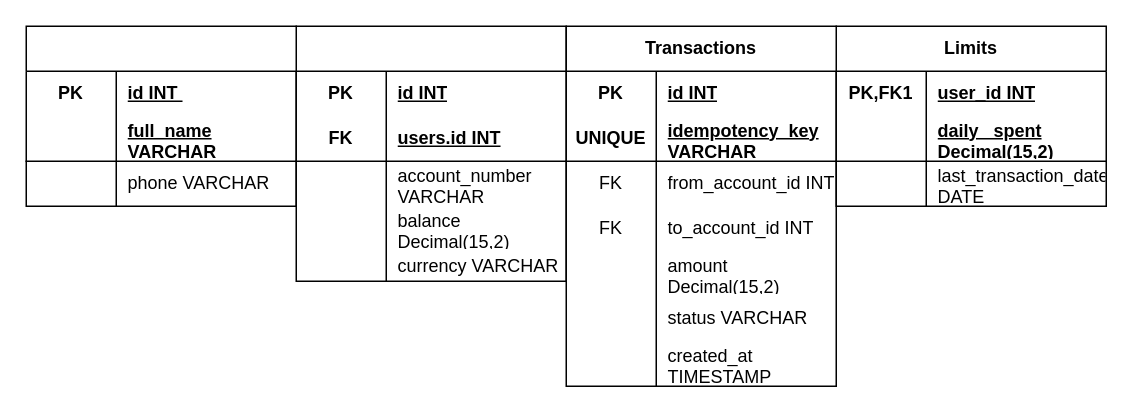
Some shapes in this 1134 by 413 pixel diagram are drawn without their labels. The box of each missing label's shape, as (x1, y1, x2, y2) in pixels:
Accounts: (295, 25, 566, 281)
Users: (25, 25, 296, 206)
